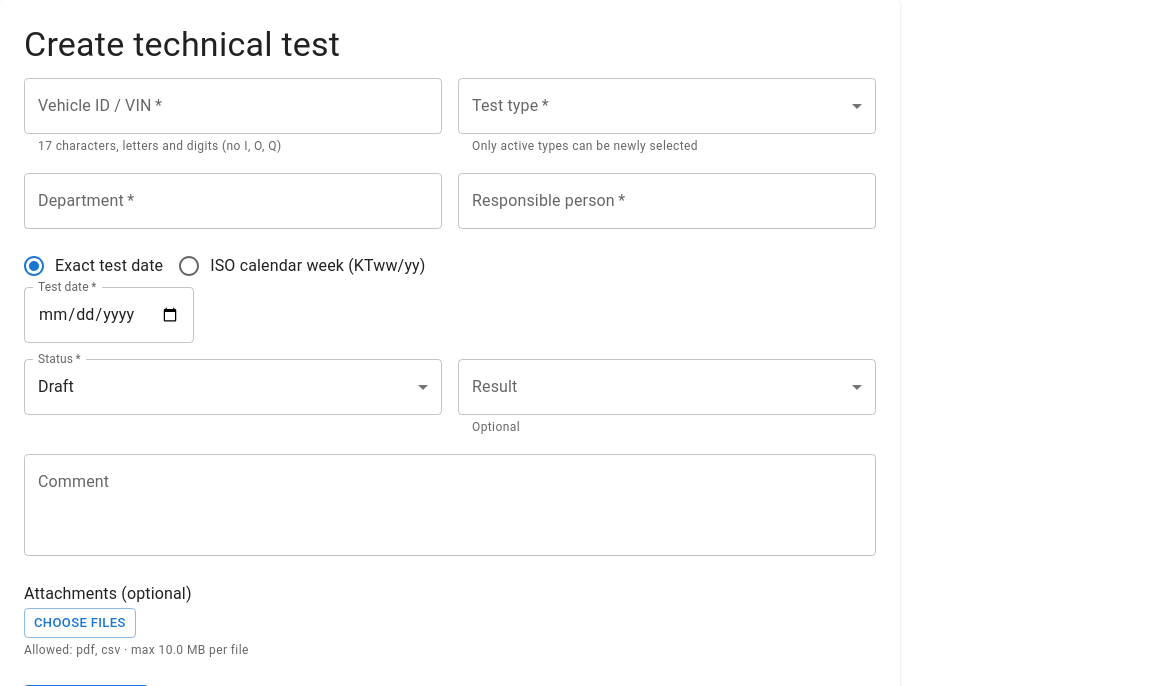
Test case: Create test form › only offers active test types for a new test
Click the dropdown named "test type" next to "Test type". click: [667, 106]
box: 458,78 -> 876,134
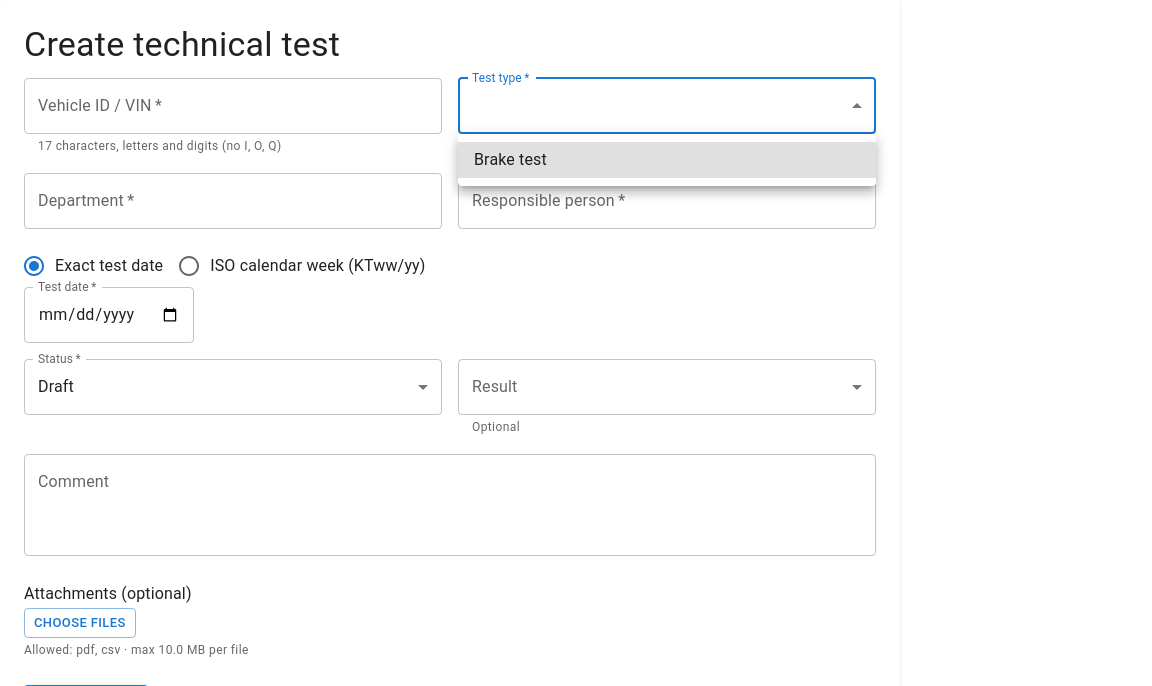
Expected: the option "Brake test" is shown, 458,142 -> 876,178
